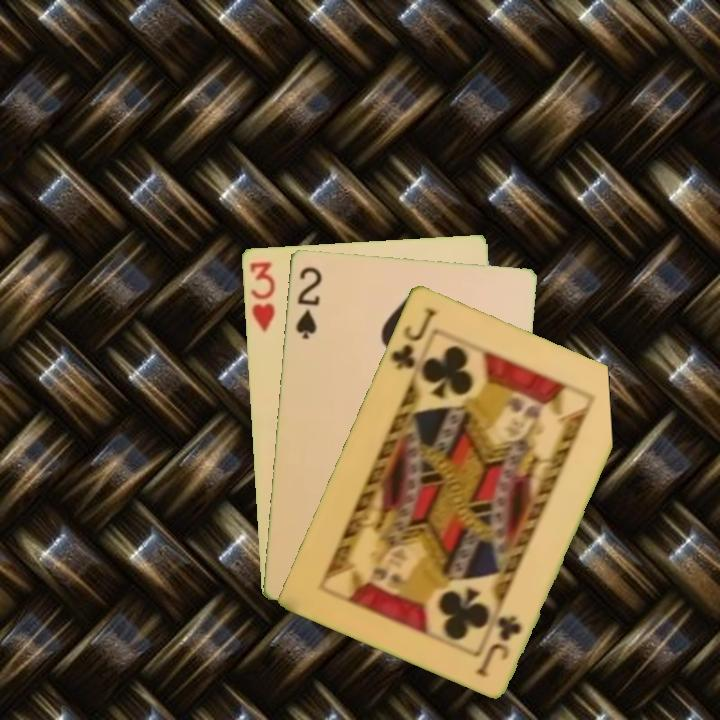2s: (292, 262, 325, 342)
3h: (246, 258, 278, 335)
Jc: (473, 611, 525, 680), (387, 303, 438, 373)
